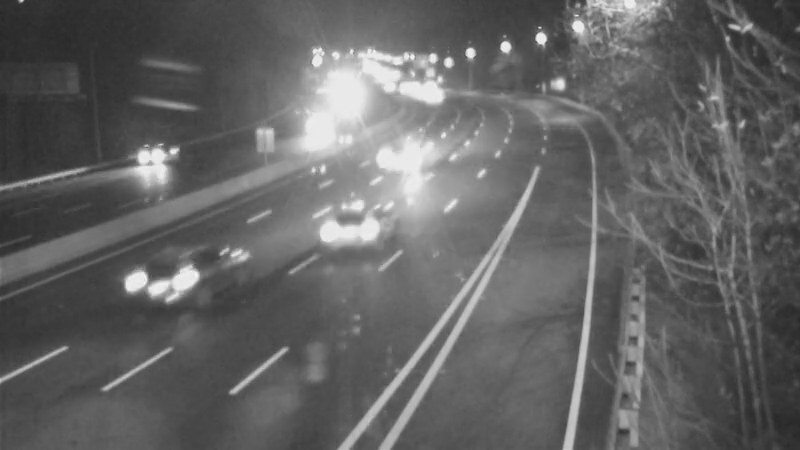vehicle: (367, 116, 447, 196), (315, 198, 395, 278), (120, 245, 200, 325), (114, 115, 194, 195), (407, 74, 457, 124), (281, 100, 331, 150), (321, 75, 371, 125)
